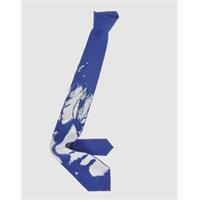tie: (50, 11, 119, 191)
